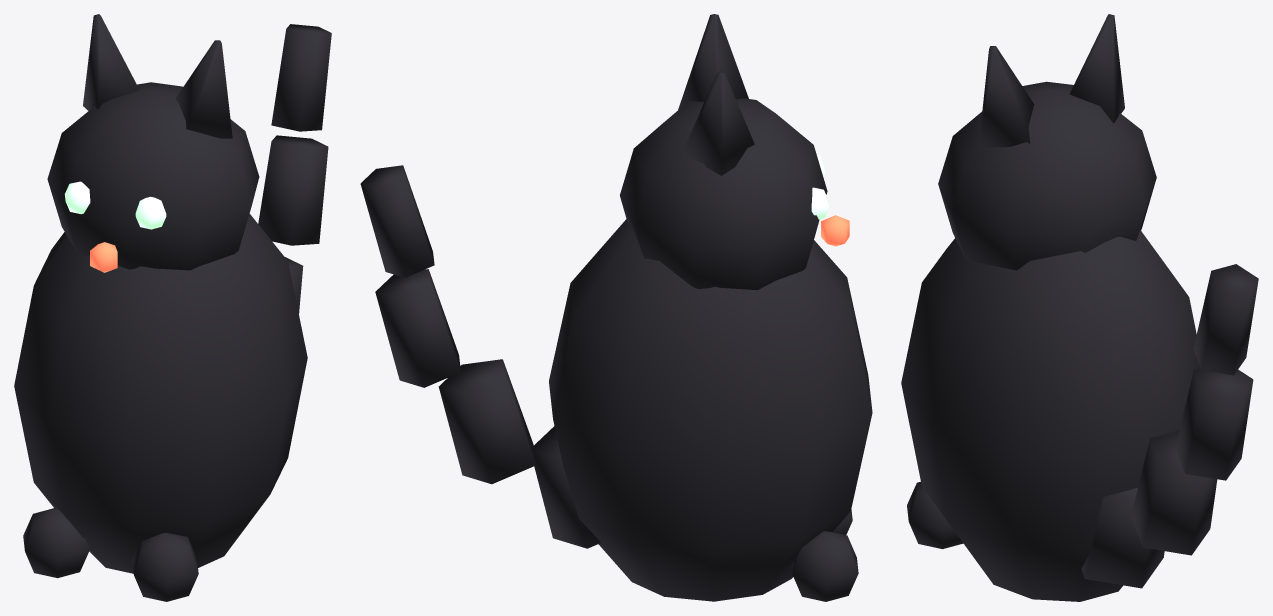
Rendered from gato.glb.
The picture shows the model from 3 angles, left to right: view 1: azimuth 30°, elevation 25°; view 2: azimuth 150°, elevation 25°; view 3: azimuth 270°, elevation 25°; orthographic projection. The views are drawn at different scales.
Visible parts, largest first — view 1: WHH_Cat; view 2: WHH_Cat; view 3: WHH_Cat.
Boxes of the visible parts, x1,y1,x2,y2 form: WHH_Cat: [14, 14, 331, 601]; WHH_Cat: [360, 14, 872, 601]; WHH_Cat: [901, 14, 1258, 601].
Bounding box in the file's own units: 0.6628 × 0.8803 × 0.5077.
